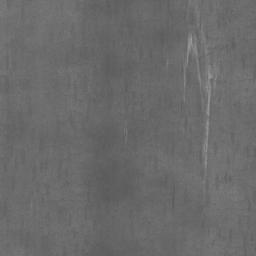Silk spot: (177, 11, 236, 164), (217, 8, 237, 28), (198, 195, 210, 214), (200, 169, 209, 191), (208, 139, 218, 155)
